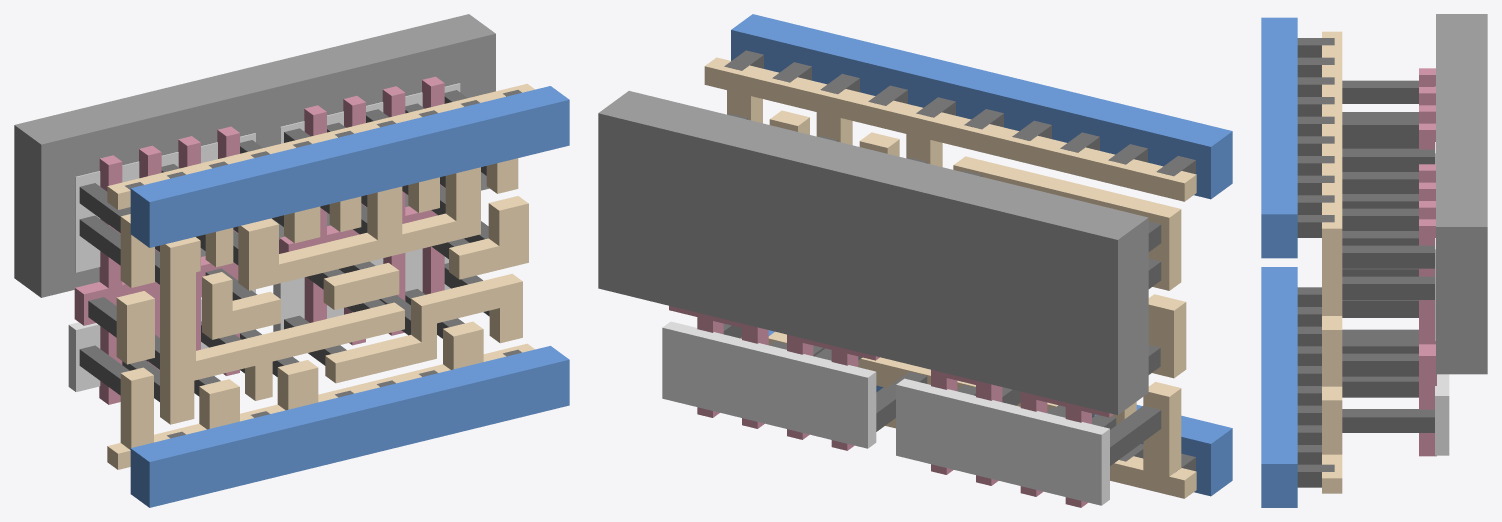
Rendered from sky130_fd_sc_hd__a211oi_2.gds.gltf.
The picture shows the model from 3 angles, left to right: view 1: azimuth 30°, elevation 25°; view 2: azimuth 150°, elevation 25°; view 3: azimuth 270°, elevation 25°; orthographic projection. The views are drawn at different scales.
Visible parts, largest first — view 1: sky130_fd_sc_hd__a211oi_2_li1, sky130_fd_sc_hd__a211oi_2_met1, sky130_fd_sc_hd__a211oi_2_nwell, sky130_fd_sc_hd__a211oi_2_poly, sky130_fd_sc_hd__a211oi_2_licon, sky130_fd_sc_hd__a211oi_2_diff, sky130_fd_sc_hd__a211oi_2_mcon; view 2: sky130_fd_sc_hd__a211oi_2_nwell, sky130_fd_sc_hd__a211oi_2_diff, sky130_fd_sc_hd__a211oi_2_li1, sky130_fd_sc_hd__a211oi_2_met1, sky130_fd_sc_hd__a211oi_2_mcon, sky130_fd_sc_hd__a211oi_2_poly, sky130_fd_sc_hd__a211oi_2_licon; view 3: sky130_fd_sc_hd__a211oi_2_licon, sky130_fd_sc_hd__a211oi_2_nwell, sky130_fd_sc_hd__a211oi_2_met1, sky130_fd_sc_hd__a211oi_2_mcon, sky130_fd_sc_hd__a211oi_2_li1, sky130_fd_sc_hd__a211oi_2_poly, sky130_fd_sc_hd__a211oi_2_diff.
Part boxes in pixels (x1,y1,x2,y2): sky130_fd_sc_hd__a211oi_2_li1: (107,83,534,469); sky130_fd_sc_hd__a211oi_2_met1: (130,86,569,507); sky130_fd_sc_hd__a211oi_2_nwell: (14,14,495,297); sky130_fd_sc_hd__a211oi_2_poly: (74,76,444,404); sky130_fd_sc_hd__a211oi_2_licon: (79,90,489,401); sky130_fd_sc_hd__a211oi_2_diff: (68,83,460,391); sky130_fd_sc_hd__a211oi_2_mcon: (125,90,521,448); sky130_fd_sc_hd__a211oi_2_nwell: (598,91,1148,415); sky130_fd_sc_hd__a211oi_2_diff: (662,321,1109,505); sky130_fd_sc_hd__a211oi_2_li1: (704,57,1196,498); sky130_fd_sc_hd__a211oi_2_met1: (731,14,1232,496); sky130_fd_sc_hd__a211oi_2_mcon: (724,50,1195,472); sky130_fd_sc_hd__a211oi_2_poly: (669,306,1113,507); sky130_fd_sc_hd__a211oi_2_licon: (723,114,1161,465); sky130_fd_sc_hd__a211oi_2_licon: (1342,80,1434,432); sky130_fd_sc_hd__a211oi_2_nwell: (1436,14,1487,374); sky130_fd_sc_hd__a211oi_2_met1: (1261,17,1297,507); sky130_fd_sc_hd__a211oi_2_mcon: (1297,38,1334,487); sky130_fd_sc_hd__a211oi_2_li1: (1322,31,1342,493); sky130_fd_sc_hd__a211oi_2_poly: (1419,68,1436,456); sky130_fd_sc_hd__a211oi_2_diff: (1435,86,1449,455).
Size of the model in its own units: 4.98 by 3.2 by 2.24.
